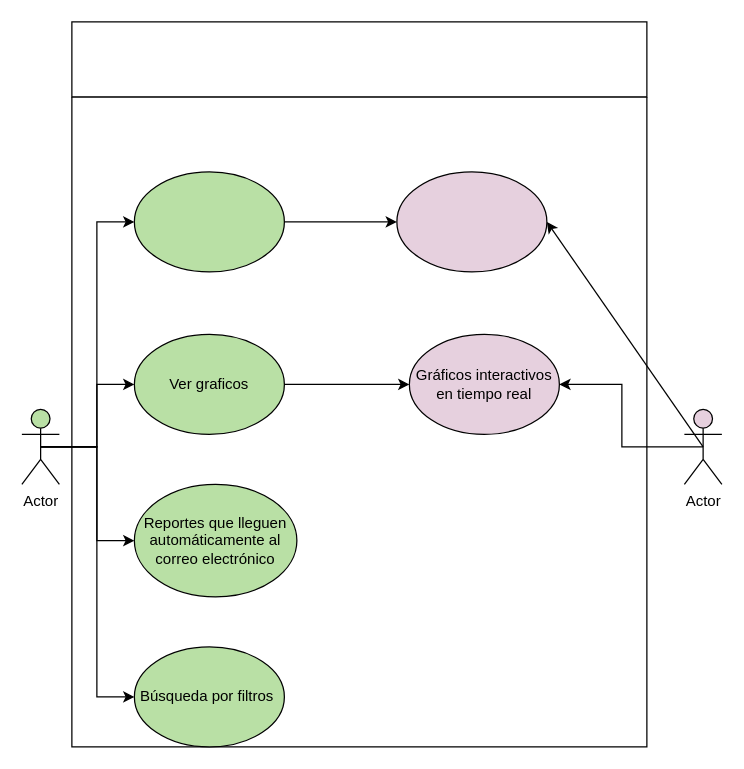
Some shapes in this 744 by 769 pixel diagram are drawn without their labels. Each missing label, with the centre of its shape:
ChatBot responderá las consultas: the point at 471,221
Poder hacer consultas: the point at 208,221
Reporte y análisis: the point at 359,59
